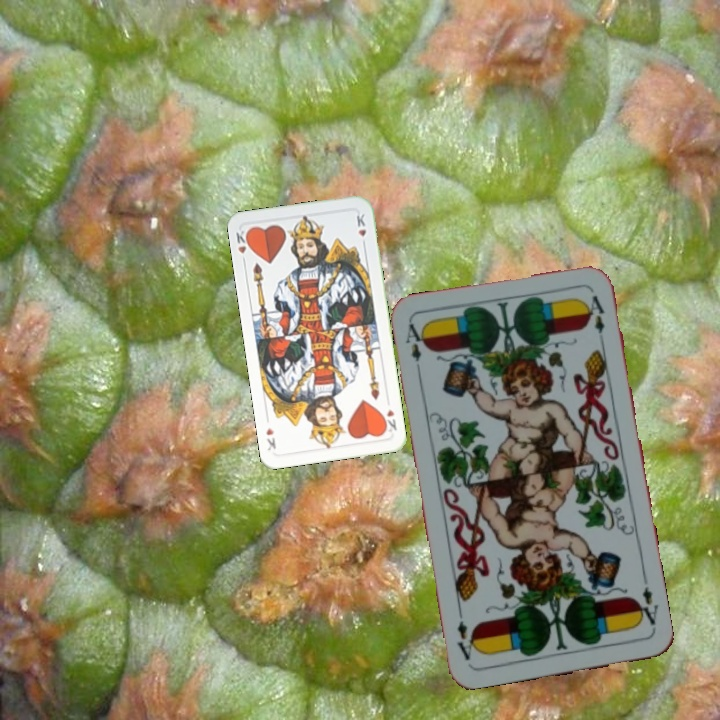EA: (401, 319, 430, 378), (631, 582, 661, 633)
HK: (232, 226, 253, 267), (379, 405, 399, 434)
